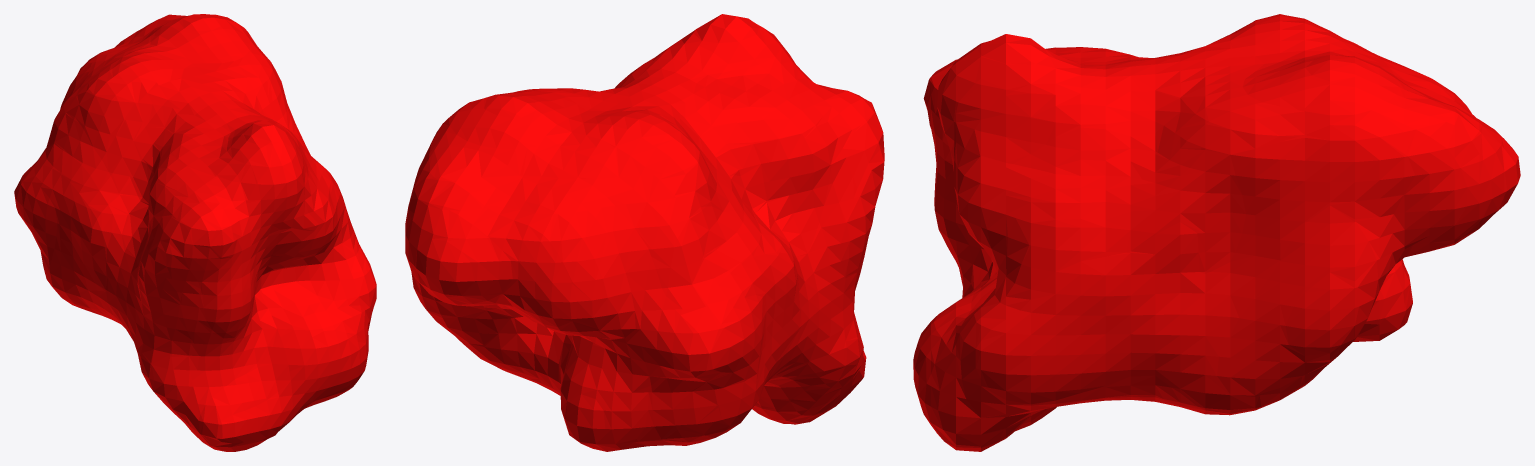
The model's file is glpF_coarse.dae.
3 renders of one model, left to right at view 1: azimuth 30°, elevation 25°; view 2: azimuth 150°, elevation 25°; view 3: azimuth 270°, elevation 25°, orthographic. The views are drawn at different scales.
Parts seen in each view (by area): view 1: glpF; view 2: glpF; view 3: glpF.
Part boxes in pixels (x1,y1,x2,y2): glpF: (14,14,376,451); glpF: (405,14,884,451); glpF: (913,14,1520,451).
Bounding box in the file's own units: 39.97 × 47.51 × 59.62.
